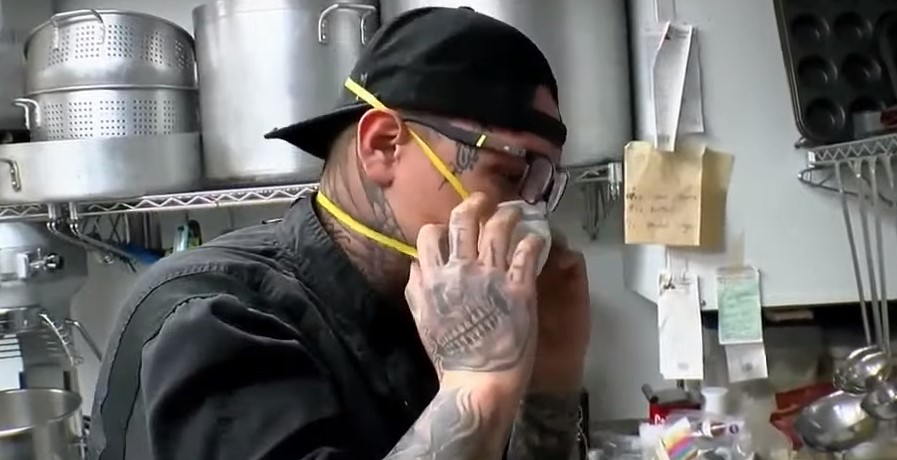face_with_mask: (268, 10, 572, 297)
